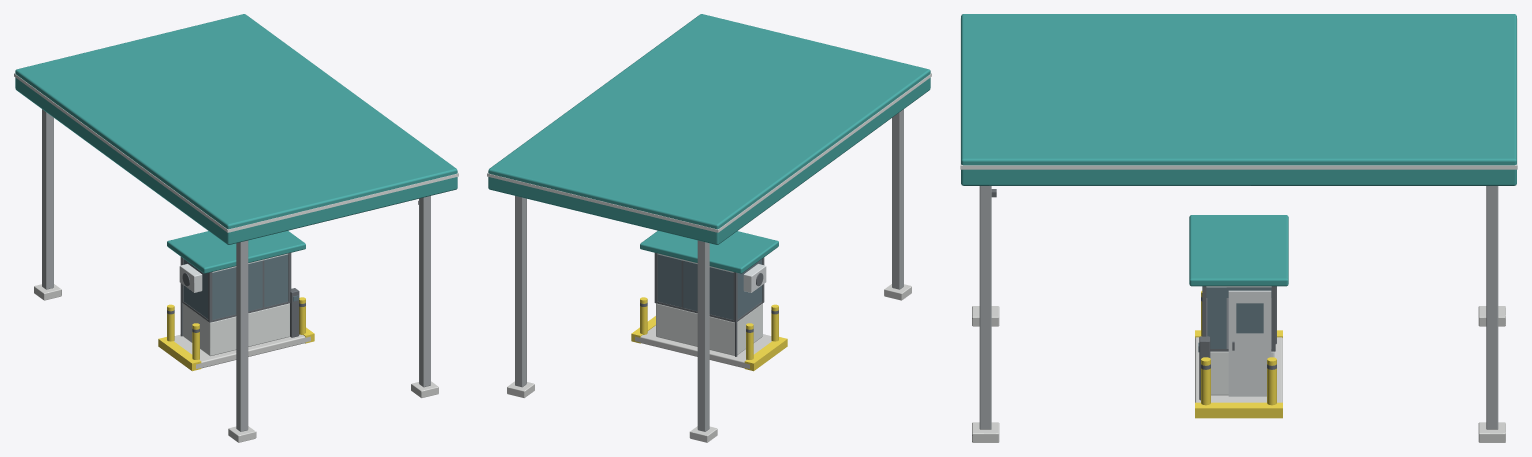
Rendered from gatehouse.glb.
The picture shows the model from 3 angles, left to right: view 1: azimuth 30°, elevation 25°; view 2: azimuth 150°, elevation 25°; view 3: azimuth 270°, elevation 25°; orthographic projection. The views are drawn at different scales.
Parts seen in each view (by area): view 1: root__canopy.001, root__steel, root__glass, root__canopy, root__wall_panel, root__wall_panel.001, root__hazard_yellow, root__concrete, root__graphite, root__concrete.001, root__door.001, root__graphite.001; view 2: root__canopy.001, root__steel, root__glass, root__canopy, root__wall_panel, root__wall_panel.001, root__hazard_yellow, root__concrete, root__graphite, root__concrete.001, root__door.001; view 3: root__canopy.001, root__canopy, root__steel, root__door, root__wall_panel.001, root__hazard_yellow, root__glass, root__concrete.001, root__concrete, root__graphite, root__wall_panel.
Boxes of the visible parts, x1,y1,x2,y2 form: root__canopy.001: (15, 14, 457, 244); root__steel: (42, 109, 430, 431); root__glass: (183, 254, 298, 319); root__canopy: (167, 231, 305, 273); root__wall_panel: (183, 303, 289, 356); root__wall_panel.001: (14, 73, 458, 272); root__hazard_yellow: (158, 297, 314, 371); root__concrete: (174, 334, 310, 368); root__graphite: (167, 200, 418, 336); root__concrete.001: (34, 284, 438, 442); root__door.001: (179, 264, 202, 292); root__graphite.001: (290, 288, 299, 337); root__canopy.001: (488, 14, 930, 244); root__steel: (515, 109, 903, 431); root__glass: (657, 254, 762, 319); root__canopy: (640, 231, 778, 273); root__wall_panel: (656, 303, 762, 355); root__wall_panel.001: (487, 73, 931, 272); root__hazard_yellow: (631, 297, 787, 371); root__concrete: (635, 325, 771, 368); root__graphite: (640, 253, 778, 356); root__concrete.001: (507, 284, 911, 442); root__door.001: (743, 264, 766, 292); root__canopy.001: (961, 14, 1516, 185); root__canopy: (1189, 215, 1288, 286); root__steel: (979, 186, 1498, 429); root__door: (1228, 290, 1271, 396); root__wall_panel.001: (960, 18, 1517, 287); root__hazard_yellow: (1195, 291, 1282, 418); root__glass: (1198, 287, 1271, 352); root__concrete.001: (972, 306, 1505, 442); root__concrete: (1195, 337, 1282, 402); root__graphite: (991, 189, 1276, 369); root__wall_panel: (1210, 351, 1274, 395).
Bounding box in the file's own units: 6.32 × 5.88 × 10.12.
